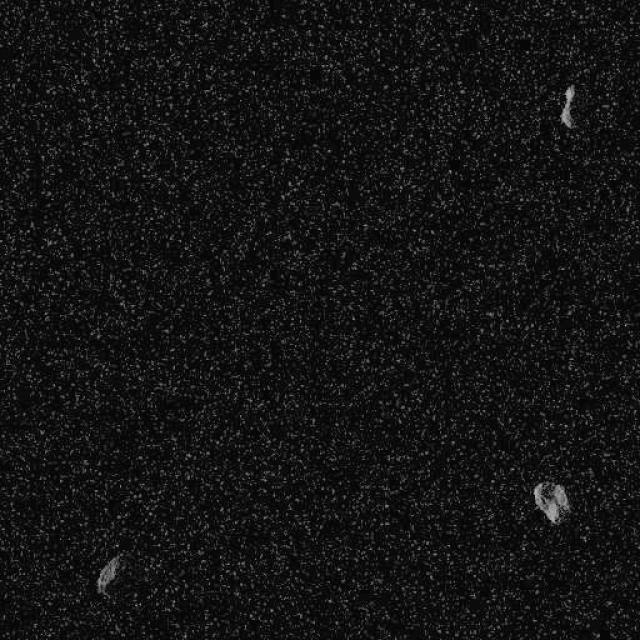D2: (531, 480, 570, 525), (95, 552, 123, 596), (559, 82, 576, 128)
